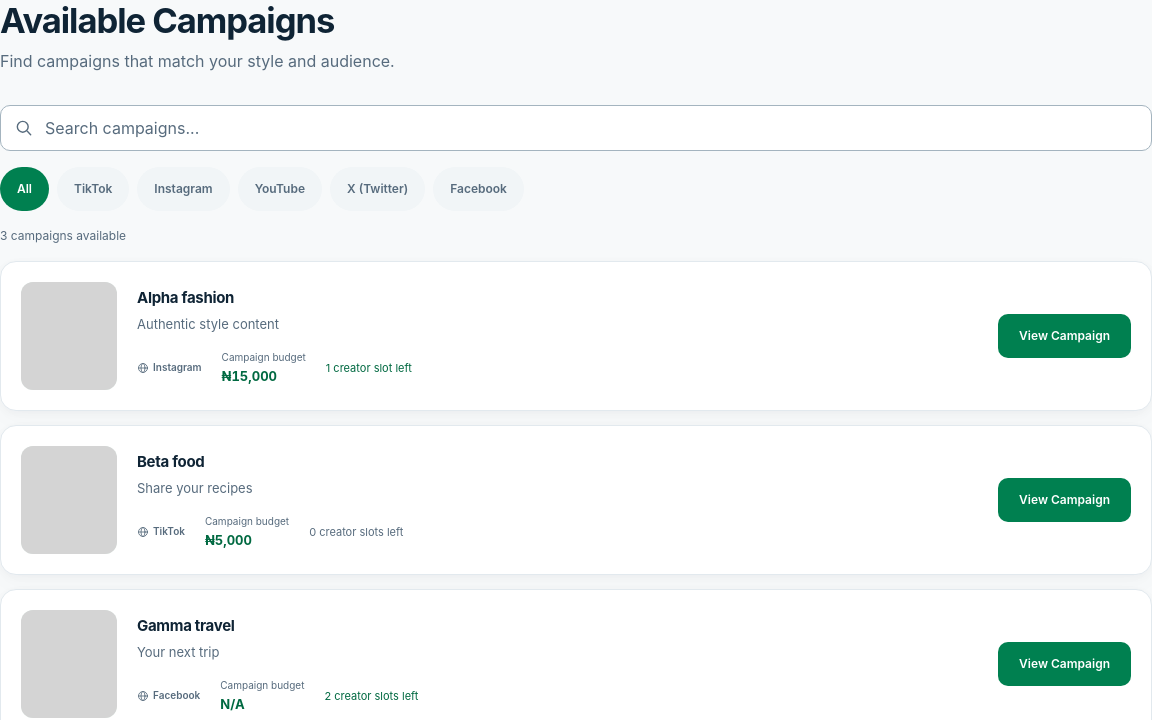
Test: no matches show the empty state and non-promoters retain their redirect
The image size is (1152, 720).
Step 1. Type "no match" into the search field with placeholder "Search campaigns..." → point(576, 128), box [0, 106, 1151, 152]
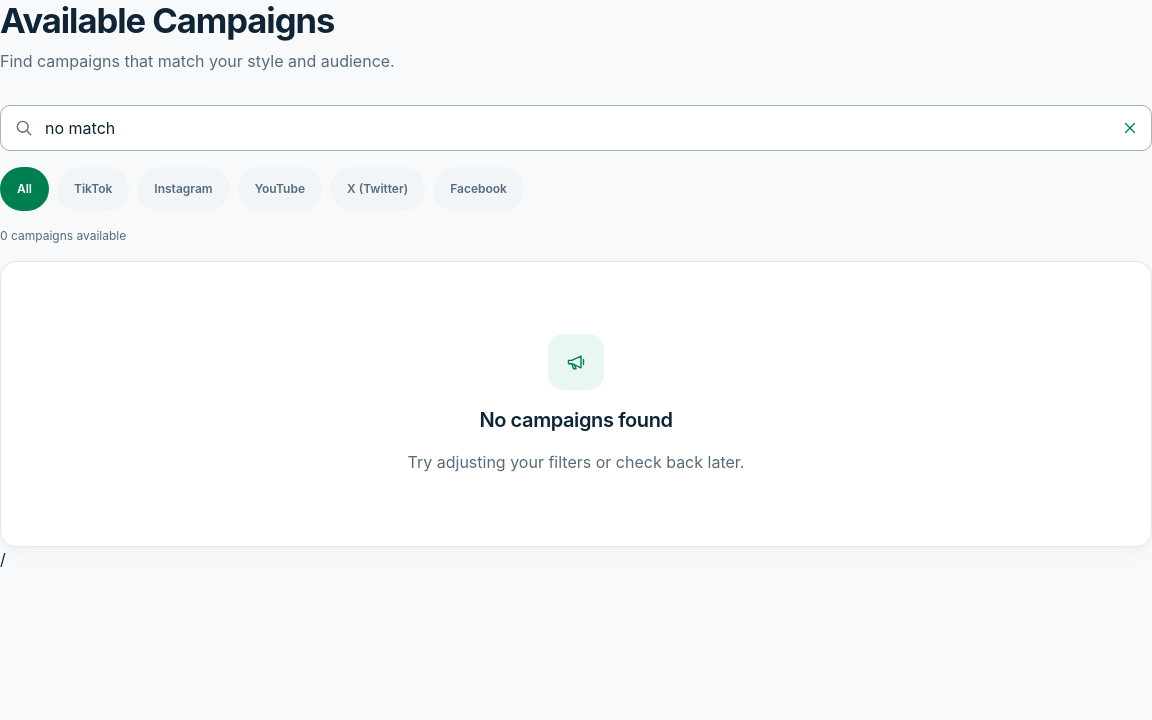
Now the text "No campaigns found" is shown, box [479, 406, 673, 434]
Now the text "/" is shown, box [0, 550, 6, 570]
